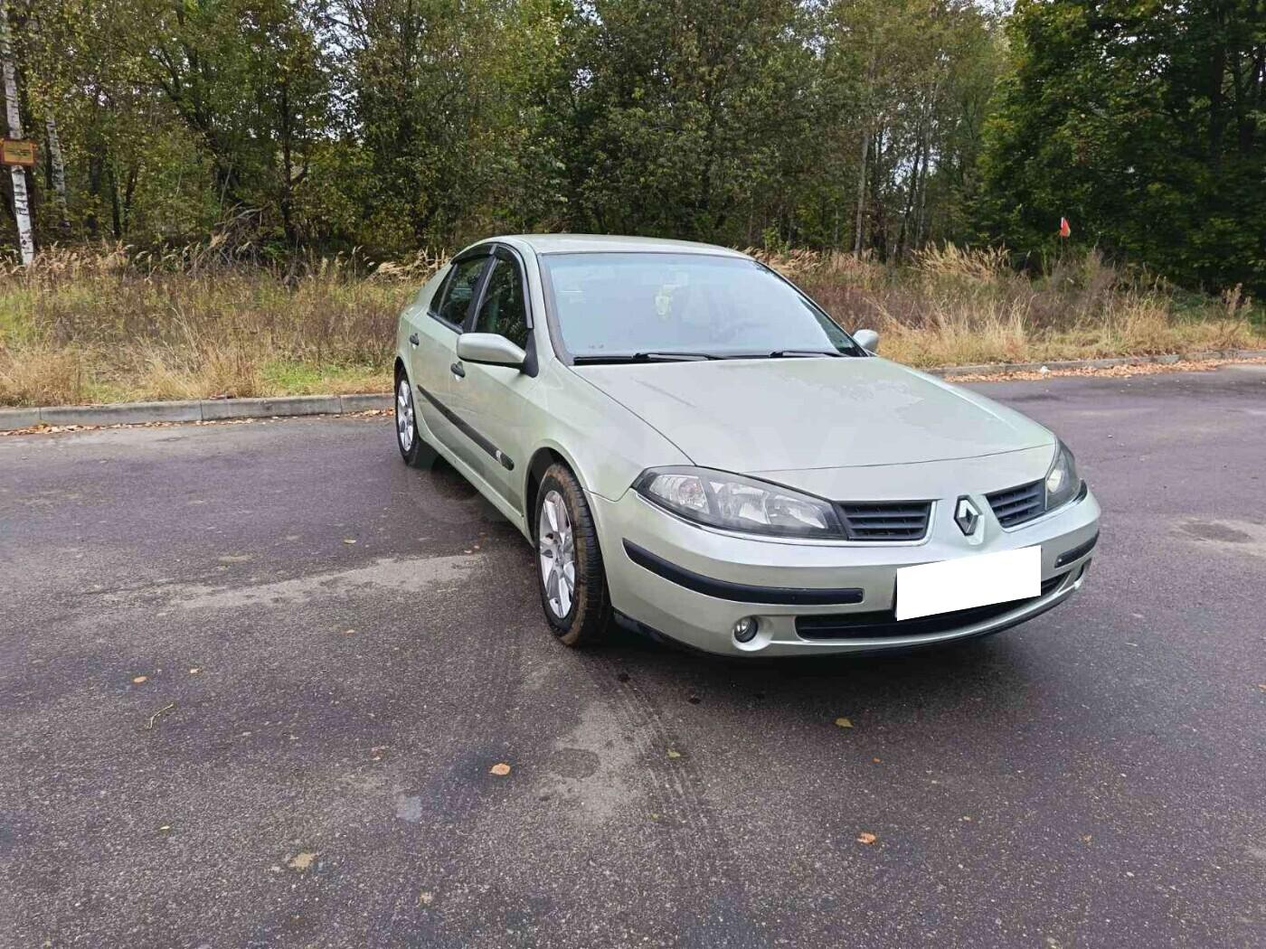Laguna_2005-2007: (388, 222, 1112, 673)
